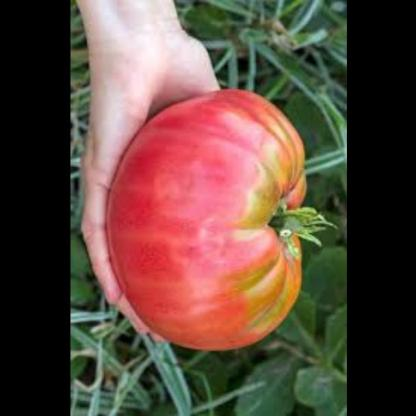tomato: (112, 86, 322, 356)
